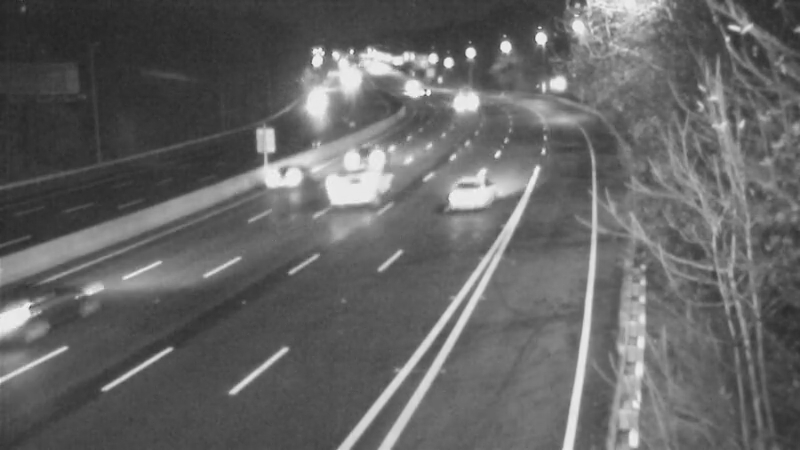vehicle: (1, 255, 91, 365), (325, 116, 405, 196), (312, 140, 392, 220), (255, 131, 335, 211), (430, 155, 510, 235), (435, 72, 485, 122), (297, 67, 347, 117)
